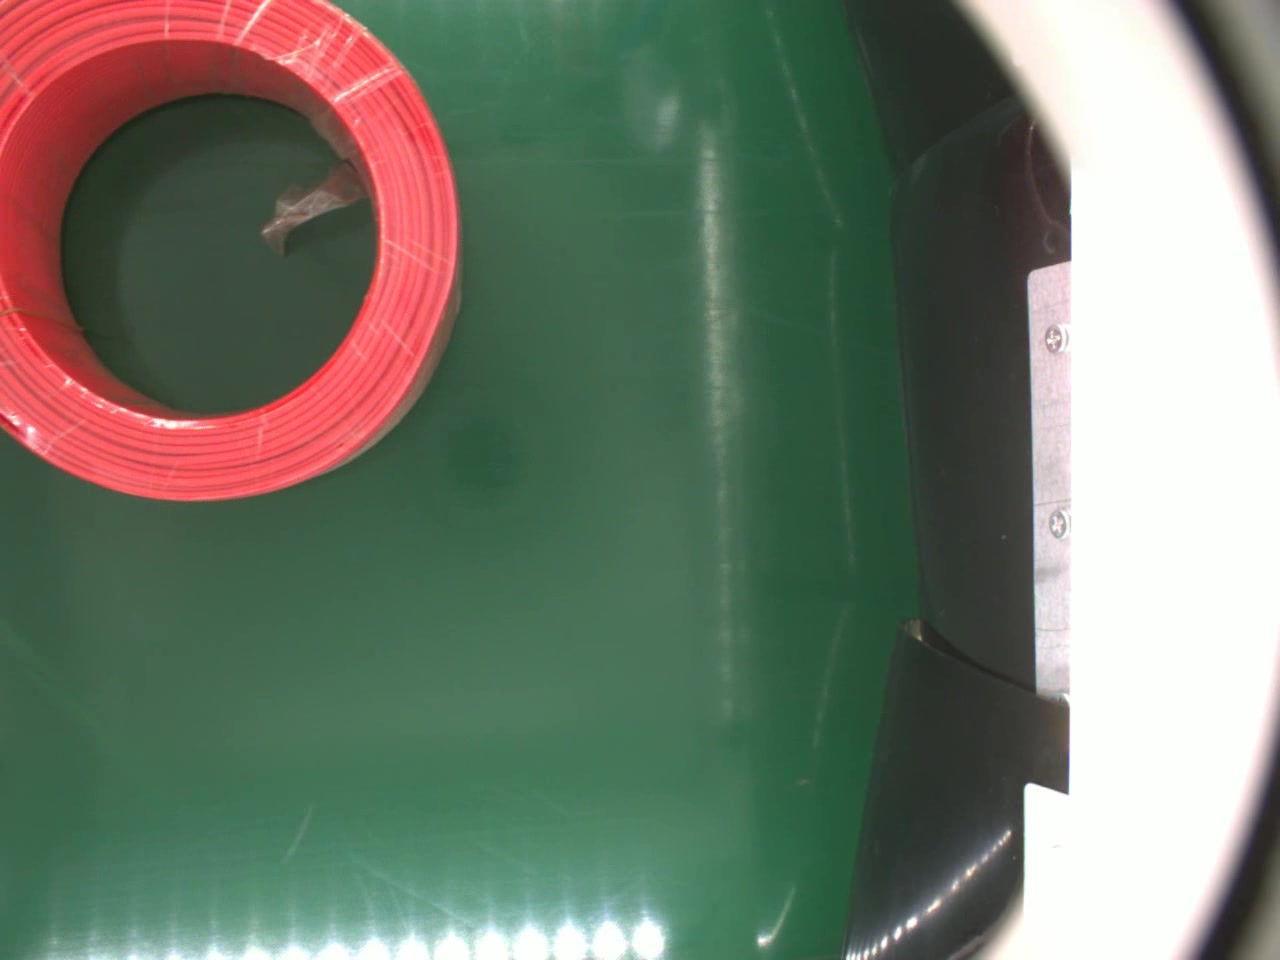red: (0, 0, 461, 502)
